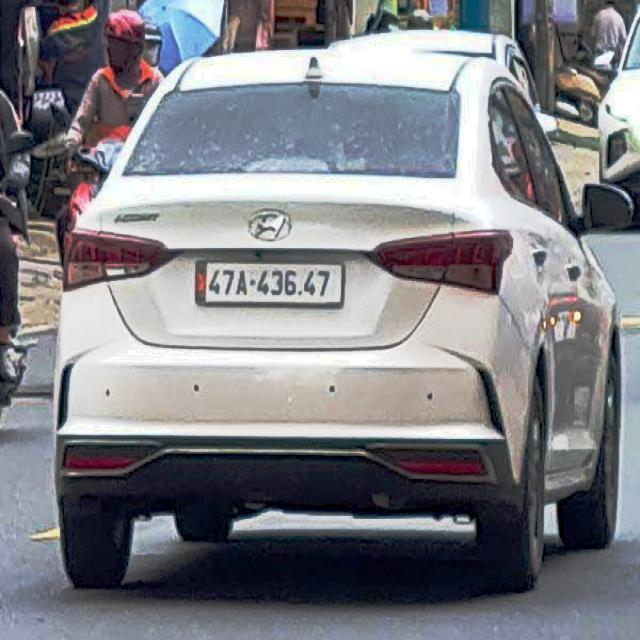license_plate: (198, 262, 345, 310)
